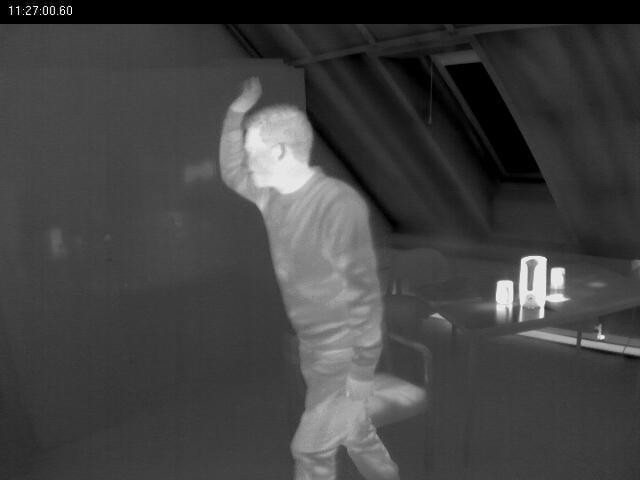person: (207, 73, 397, 475)
